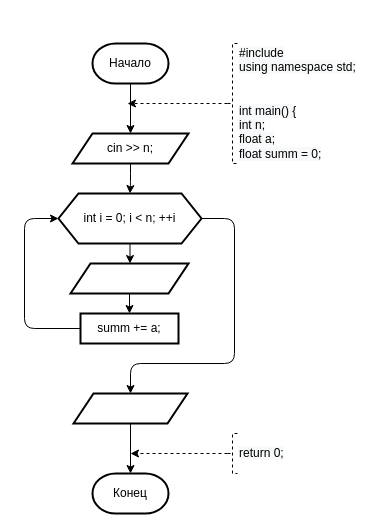
The diagram is 374 pixels wide and 532 high, and some of its shapes have lost their labels. Here are the shapes that lost their labels. From the top down, the box of each, then its label:
(69, 262, 189, 294): cin >> a;
(72, 392, 188, 424): cout << summ
